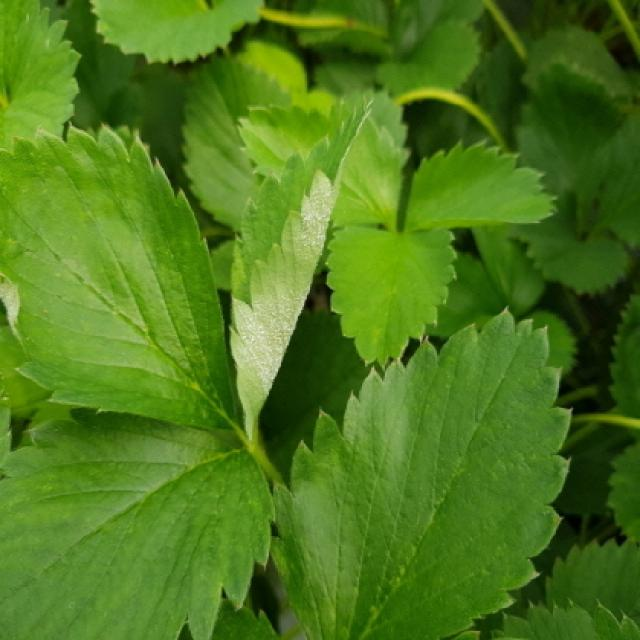Powdery Mildew Leaf: (2, 120, 241, 431), (229, 97, 374, 438)
